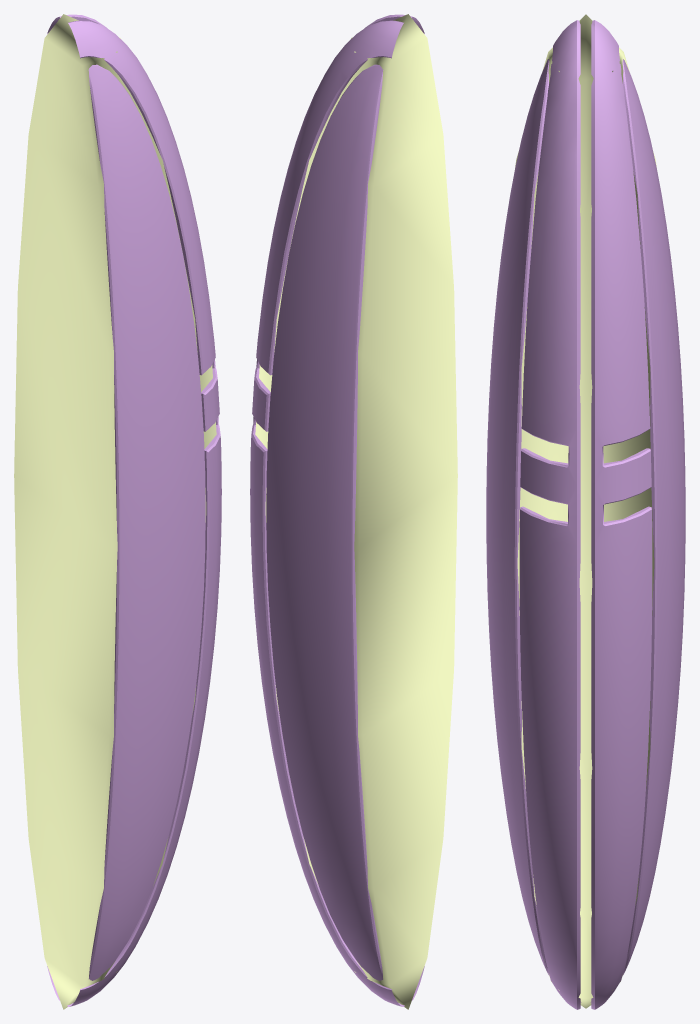
The model's file is portalCleanser.fbx.
The picture shows the model from 3 angles, left to right: view 1: azimuth 30°, elevation 25°; view 2: azimuth 150°, elevation 25°; view 3: azimuth 270°, elevation 25°; orthographic projection.
Visible parts, largest first — view 1: portal_cleanser_1_reference, portal_cleanser_1_physics; view 2: portal_cleanser_1_reference, portal_cleanser_1_physics; view 3: portal_cleanser_1_reference, portal_cleanser_1_physics.
Part boxes in pixels (x1,y1,x2,y2): portal_cleanser_1_reference: [47, 14, 221, 1006]; portal_cleanser_1_physics: [14, 14, 216, 1009]; portal_cleanser_1_reference: [250, 14, 424, 1006]; portal_cleanser_1_physics: [255, 14, 457, 1009]; portal_cleanser_1_reference: [486, 20, 685, 1009]; portal_cleanser_1_physics: [515, 14, 656, 1008].
Size of the model in its own units: 2057 by 13123 by 2385.
